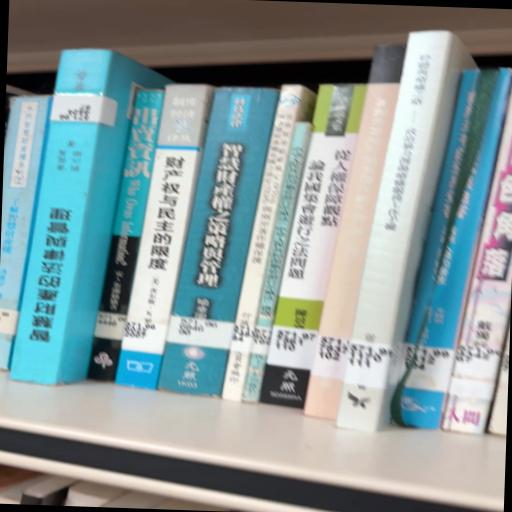reverse: (10, 50, 172, 385)
